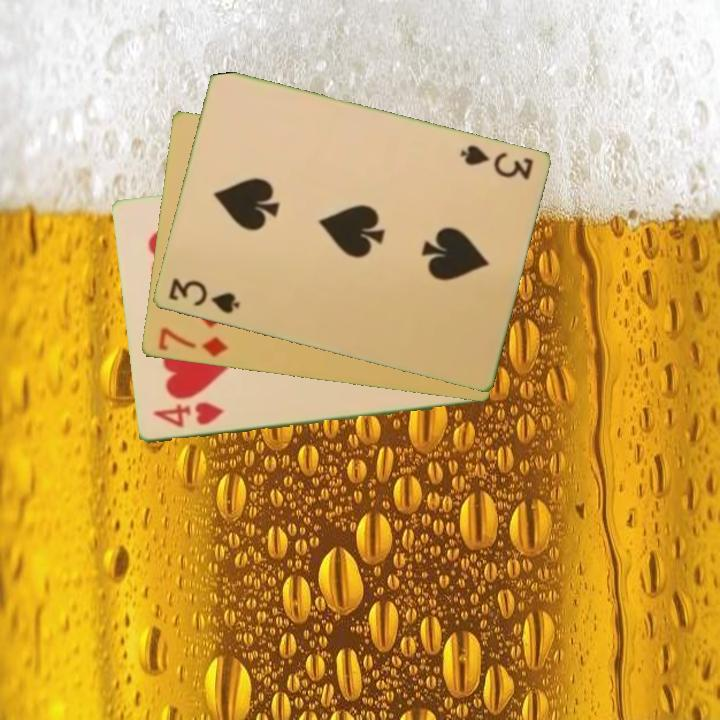3s: (456, 141, 536, 183), (164, 275, 242, 317)
4h: (149, 399, 226, 431)
7d: (154, 323, 231, 361)
